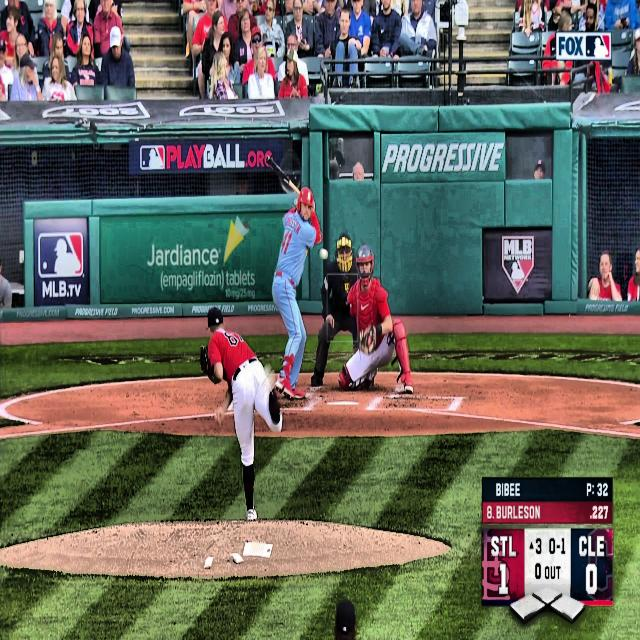baseball: (319, 248, 329, 262)
